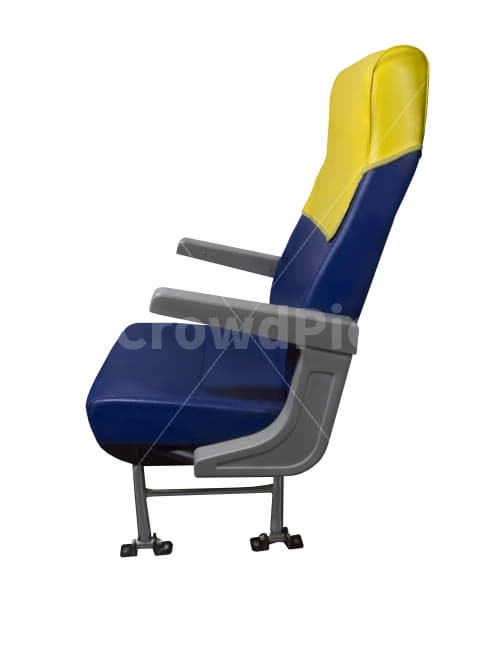seat: (90, 43, 427, 565)
